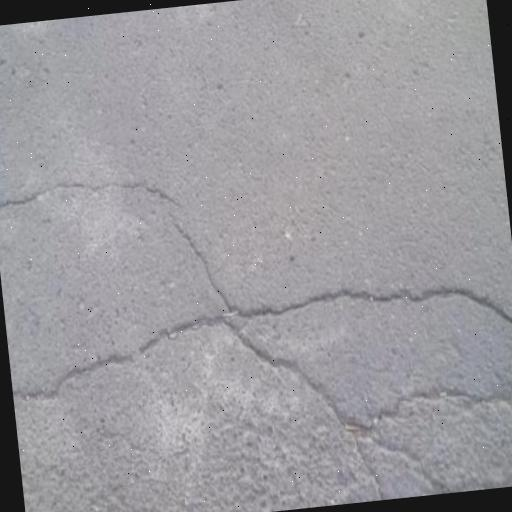spalling: (0, 167, 512, 488), (16, 276, 508, 420)
